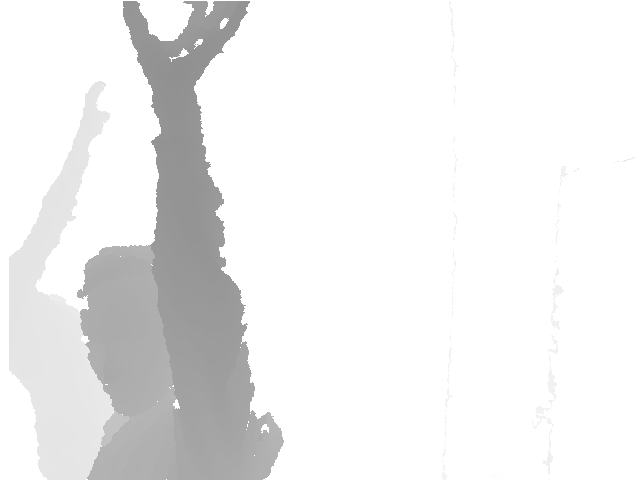hand: (121, 1, 252, 87), (80, 80, 110, 139)
head: (78, 241, 186, 417)
person: (78, 1, 285, 480), (8, 80, 117, 479)
